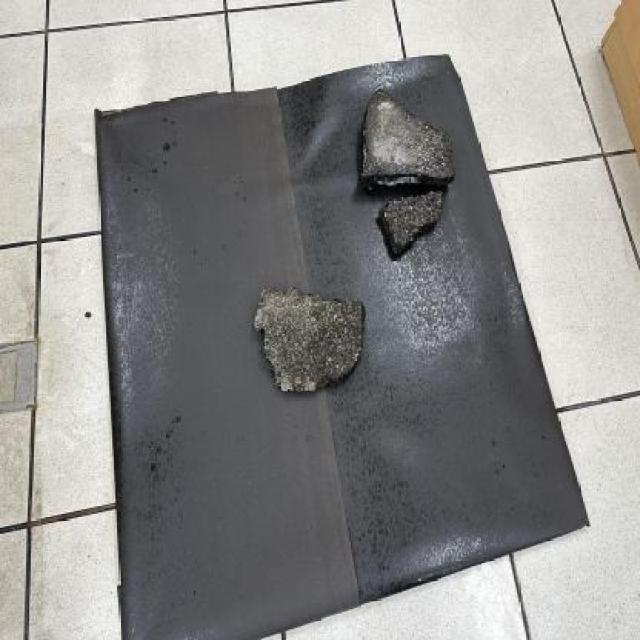Road Debris: (193, 354, 262, 484), (290, 501, 333, 596), (347, 548, 390, 602)
